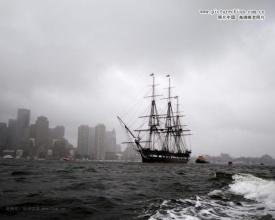fanchuan: (126, 70, 201, 173)
